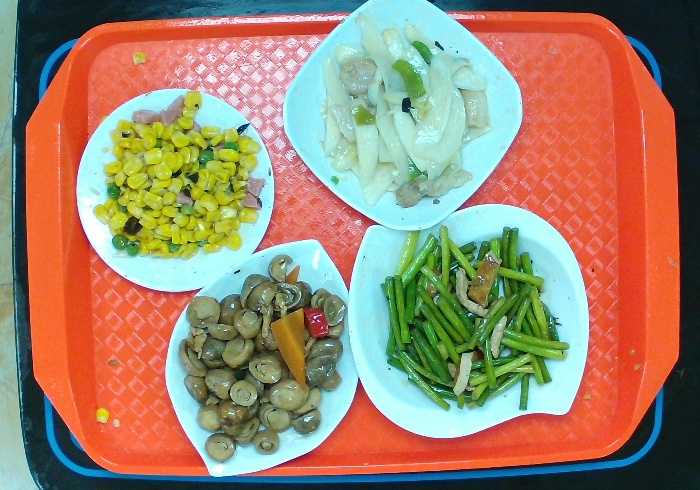RJxy-Da_Du_Pan: (161, 228, 364, 483)
RJxy-Shuang_Jiao_Pan: (346, 197, 594, 438)
RJxy-Si_Fang_Wan: (279, 1, 530, 238)
RJxy-Xiao_Yuan_Die: (71, 83, 278, 297)
